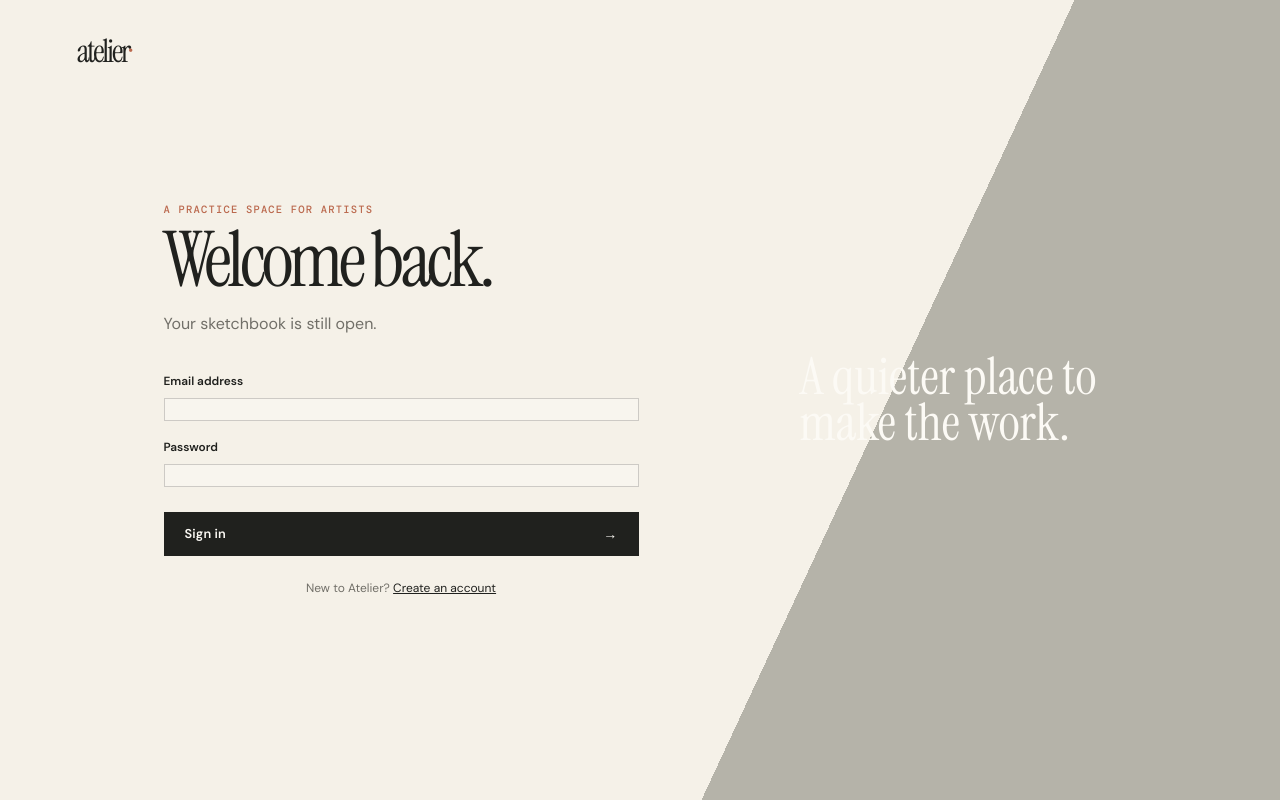
Test: SignInPage › shows a backend error without redirecting when sign-in fails
This screenshot has width=1280, height=800.
Type "artist@atelier.test" into the field labelled "Email address" at (401, 409), box [164,398,638,421]
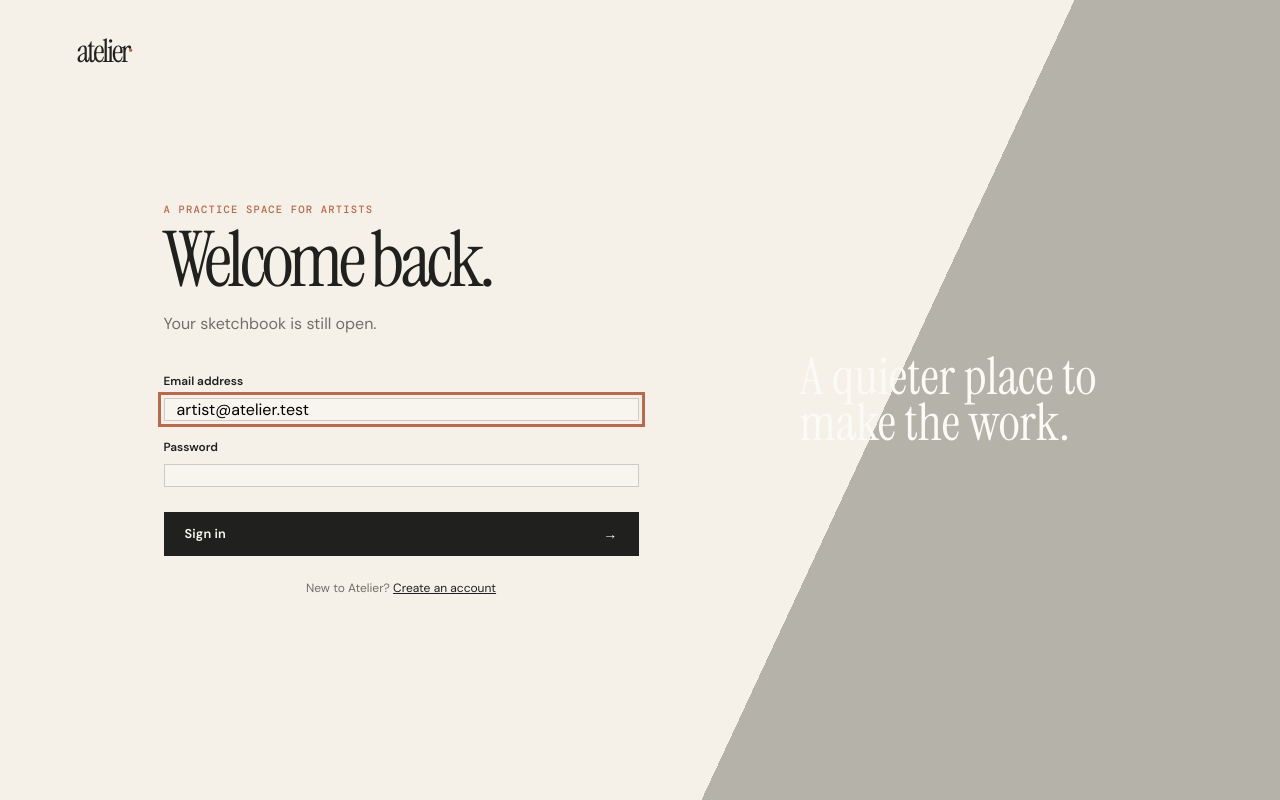
Type "wrongpassword" into the password field labelled "Password" at (401, 475), box [164,464,638,487]
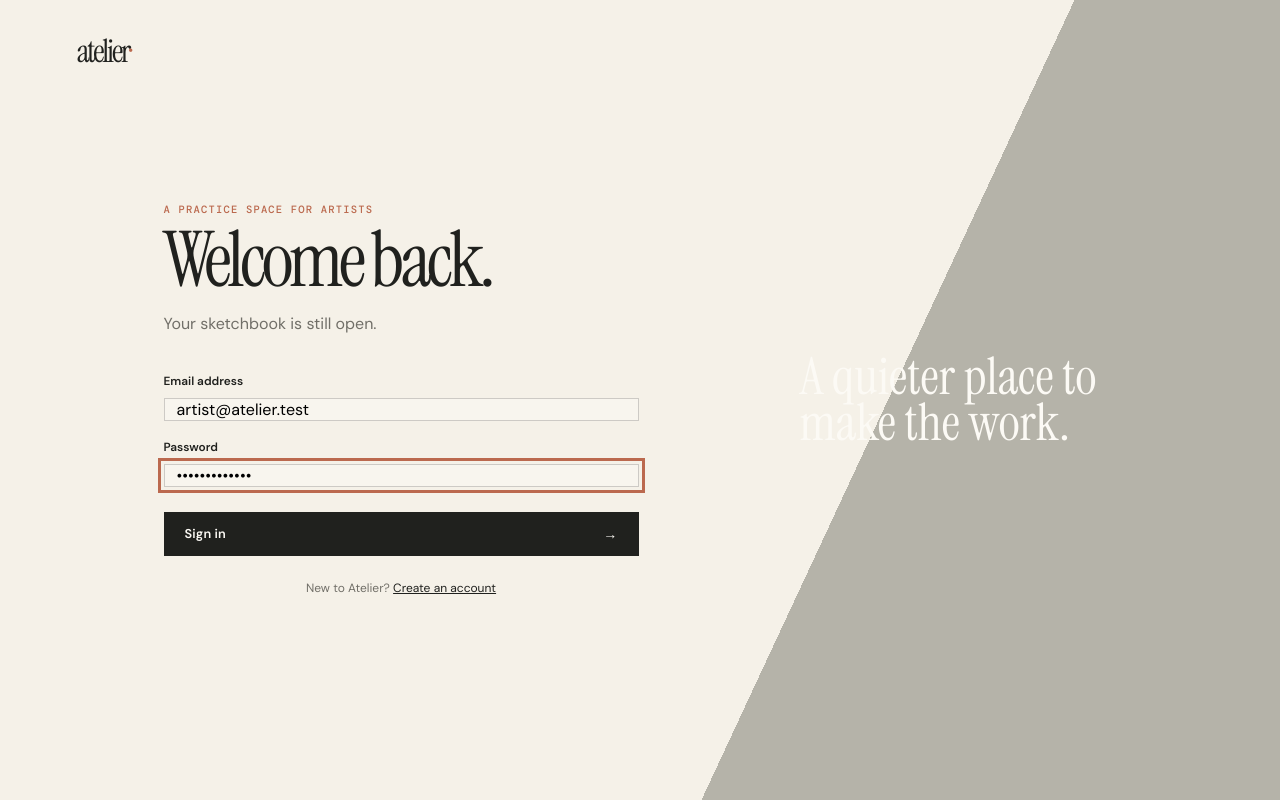
Click the button "Sign in →" at (205, 534), box [164,512,638,556]
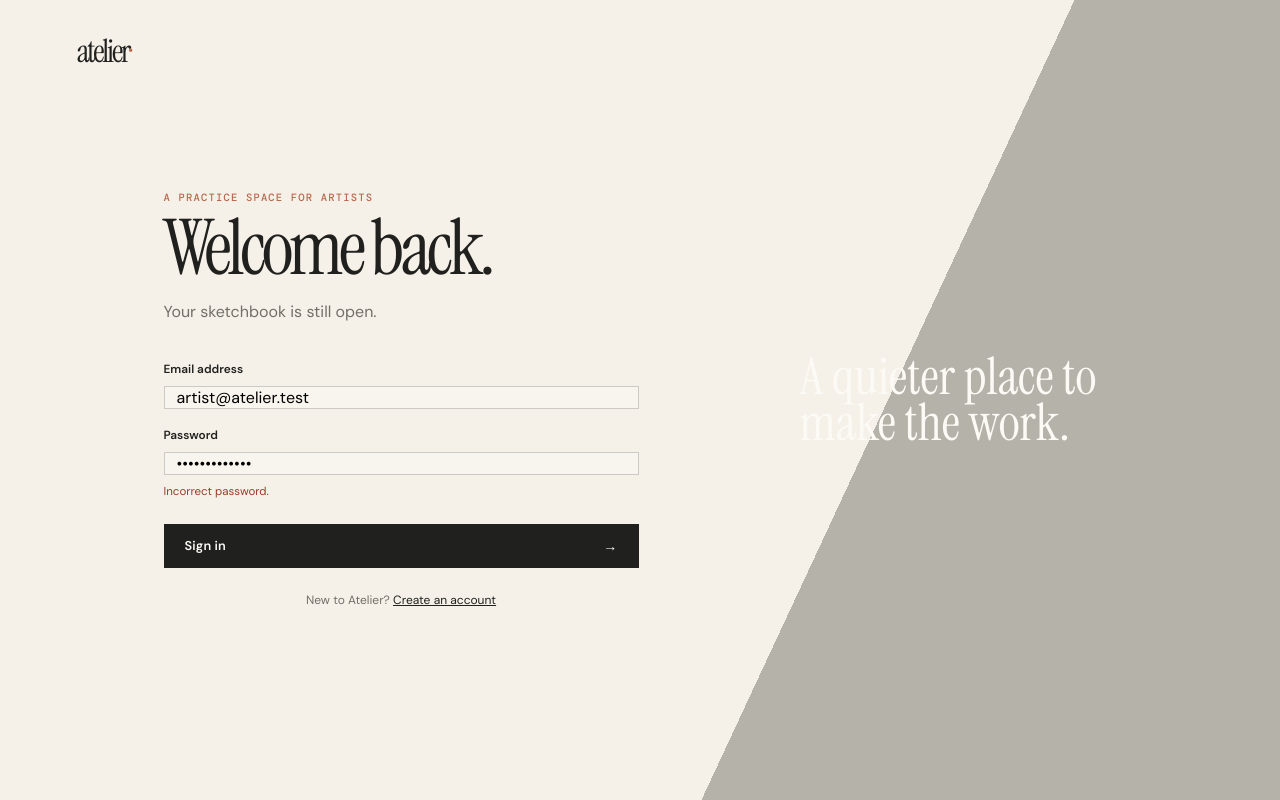
Now the text "Incorrect password." is shown, box [164,484,269,499]
